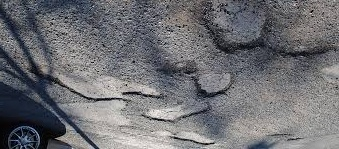pothole: (23, 64, 164, 104), (202, 0, 267, 52), (273, 3, 333, 56), (190, 63, 237, 102), (138, 103, 216, 121), (171, 128, 216, 148), (157, 57, 190, 80)
